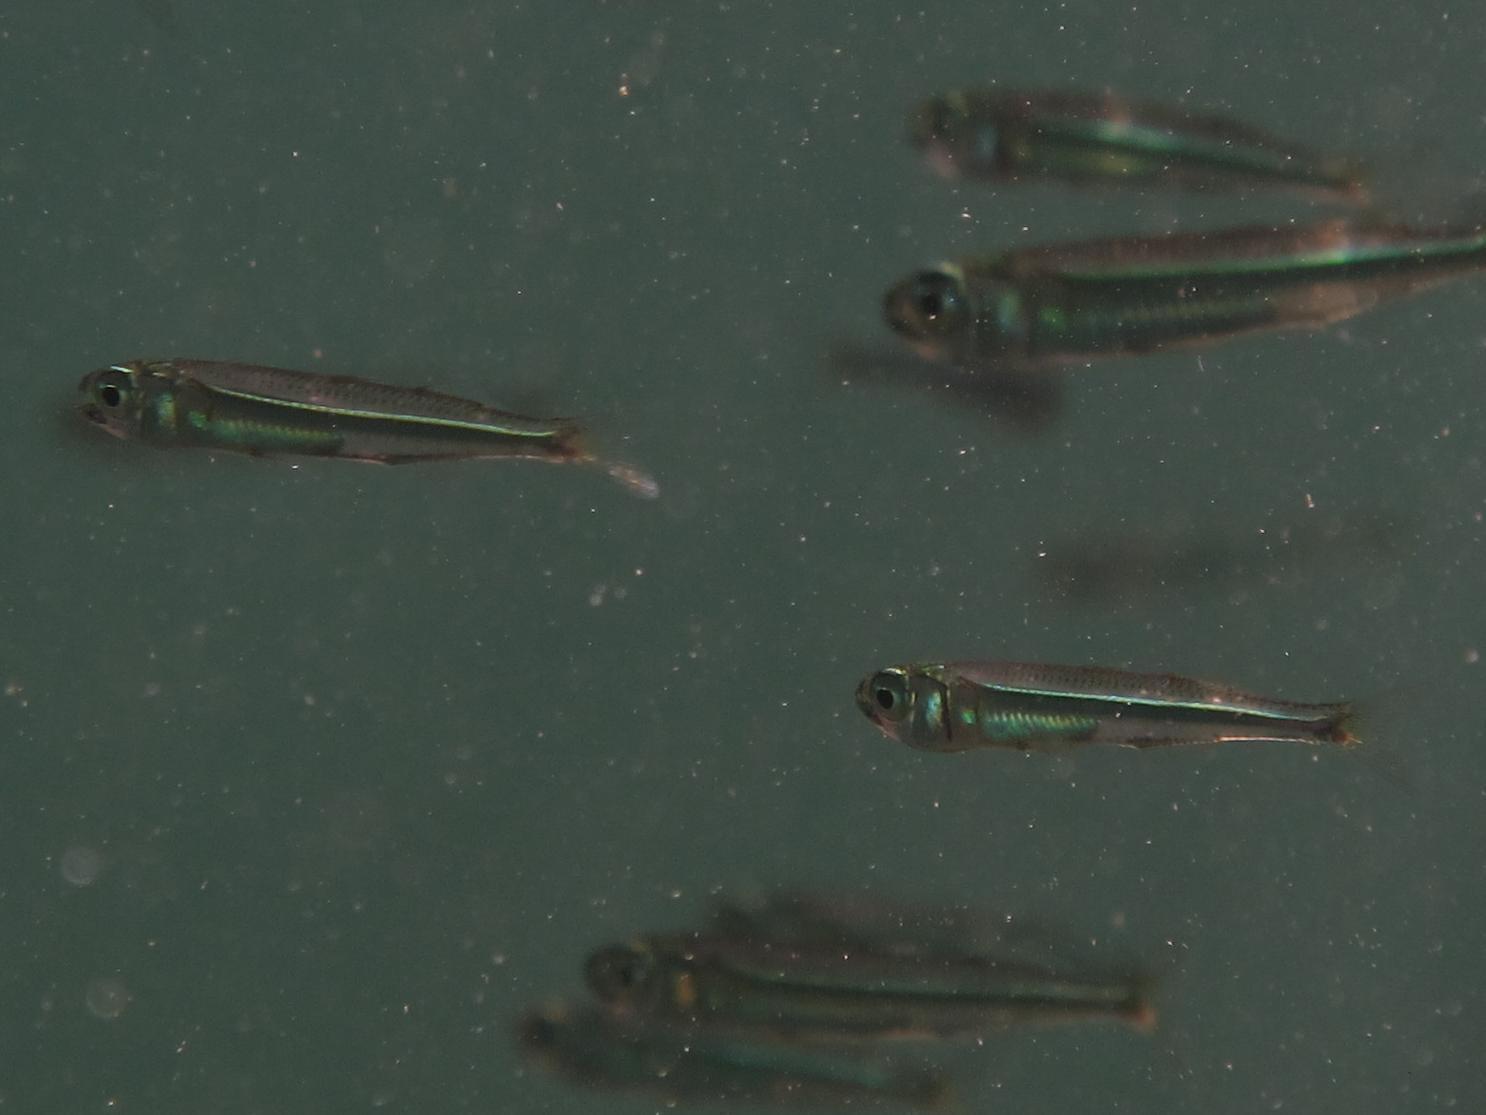Fish: (59, 348, 665, 518), (848, 645, 1393, 773)
